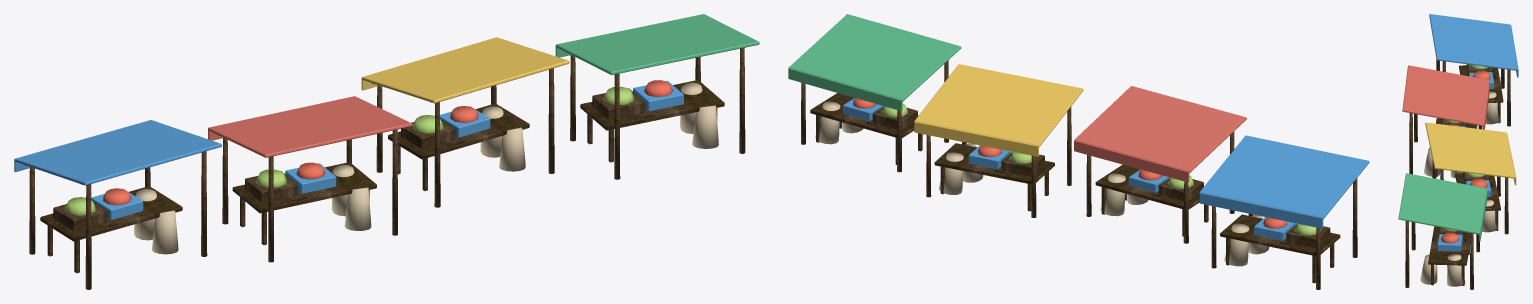
File: Kenya_Market_Cluster.glb
3 renders of one model, left to right at view 1: azimuth 30°, elevation 25°; view 2: azimuth 150°, elevation 25°; view 3: azimuth 270°, elevation 25°, orthographic. The views are drawn at different scales.
Parts seen in each view (by area): view 1: TarpRoof_2, TarpRoof_0, TarpRoof_1, TarpRoof_3, TableTop_1, TableTop_3, TableTop_0, TableTop_2, Sack2_3, Sack2_1, Sack2_0, Sack2_2 (+23 smaller); view 2: TarpRoof_2, TarpRoof_0, TarpRoof_1, TarpRoof_3, TarpFlap_2, TarpFlap_0, TableTop_2, TarpFlap_1, TableTop_0, TarpFlap_3, TableTop_1, TableTop_3 (+14 smaller); view 3: TarpRoof_3, TarpRoof_1, TarpRoof_0, TarpRoof_2, TableTop_3, Sack1_3, TableTop_0, TableTop_2, Sack1_2, Sack2_3, Sack1_0, CrateB_3 (+19 smaller).
Part boxes in pixels (x1=…): TarpRoof_2: x1=362, y1=37, x2=569, y2=103; TarpRoof_0: x1=14, y1=120, x2=221, y2=185; TarpRoof_1: x1=208, y1=96, x2=412, y2=157; TarpRoof_3: x1=555, y1=14, x2=759, y2=74; TableTop_1: x1=232, y1=162, x2=376, y2=213; TableTop_3: x1=580, y1=80, x2=724, y2=130; TableTop_0: x1=40, y1=186, x2=182, y2=241; TableTop_2: x1=388, y1=103, x2=529, y2=159; Sack2_3: x1=692, y1=105, x2=718, y2=148; Sack2_1: x1=344, y1=187, x2=371, y2=230; Sack2_0: x1=152, y1=210, x2=178, y2=254; Sack2_2: x1=499, y1=127, x2=525, y2=171; TarpRoof_2: x1=914, y1=64, x2=1083, y2=147; TarpRoof_0: x1=1199, y1=135, x2=1369, y2=219; TarpRoof_1: x1=1074, y1=86, x2=1246, y2=173; TarpRoof_3: x1=788, y1=14, x2=961, y2=101; TarpFlap_2: x1=914, y1=121, x2=1038, y2=156; TarpFlap_0: x1=1199, y1=192, x2=1323, y2=228; TableTop_2: x1=934, y1=143, x2=1054, y2=184; TarpFlap_1: x1=1074, y1=140, x2=1189, y2=182; TableTop_0: x1=1220, y1=214, x2=1340, y2=255; TarpFlap_3: x1=788, y1=68, x2=902, y2=110; TableTop_1: x1=1095, y1=164, x2=1199, y2=209; TableTop_3: x1=810, y1=93, x2=918, y2=137; TarpRoof_3: x1=1398, y1=173, x2=1486, y2=234; TarpRoof_1: x1=1402, y1=65, x2=1489, y2=126; TarpRoof_0: x1=1429, y1=14, x2=1517, y2=70; TarpRoof_2: x1=1425, y1=122, x2=1515, y2=178; TableTop_3: x1=1428, y1=226, x2=1470, y2=265; Sack1_3: x1=1447, y1=254, x2=1465, y2=286; TableTop_0: x1=1459, y1=65, x2=1503, y2=102; TableTop_2: x1=1455, y1=173, x2=1500, y2=210; Sack1_2: x1=1482, y1=199, x2=1497, y2=232; Sack2_3: x1=1420, y1=254, x2=1437, y2=284; Sack1_0: x1=1485, y1=91, x2=1500, y2=124; CrateB_3: x1=1437, y1=234, x2=1462, y2=251.
Size of the model in its own units: 16.02 by 2.63 by 3.9.
8 materials, 1 textured.
